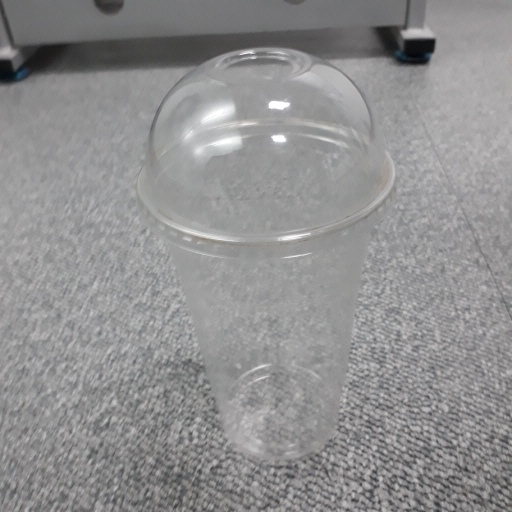Plastic_2: (131, 46, 396, 463)
